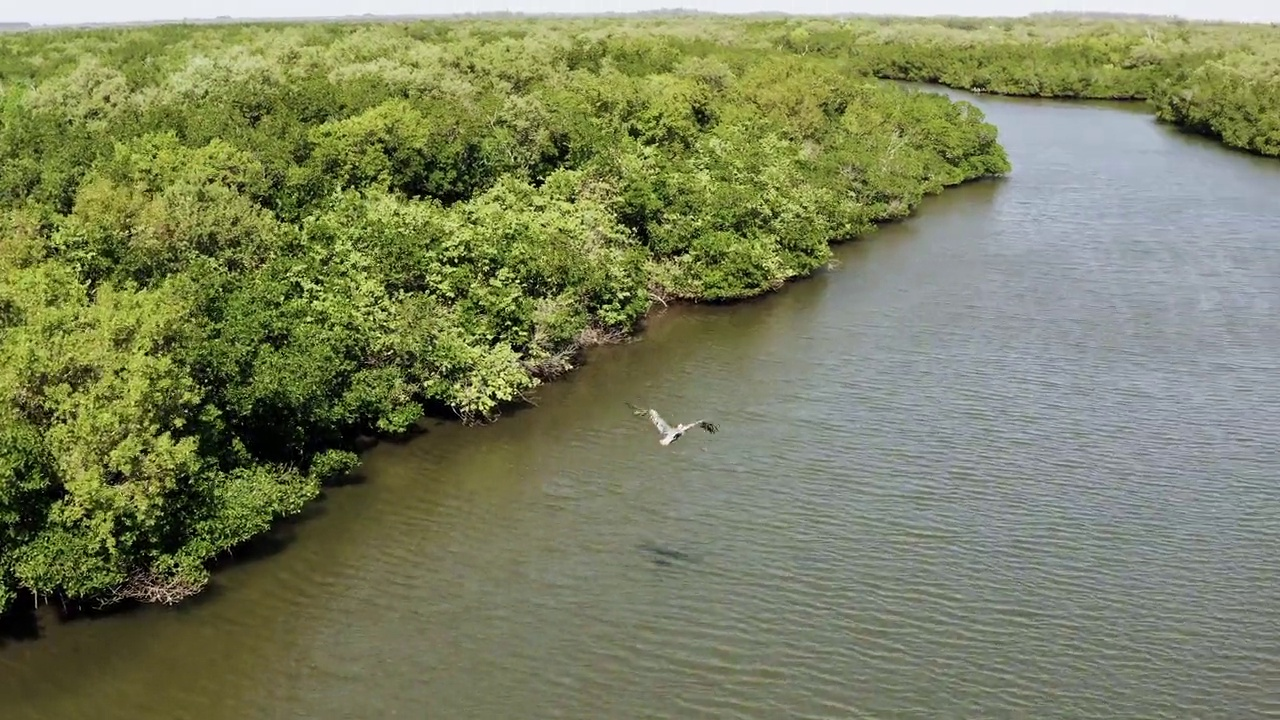bird: (628, 402, 720, 445)
